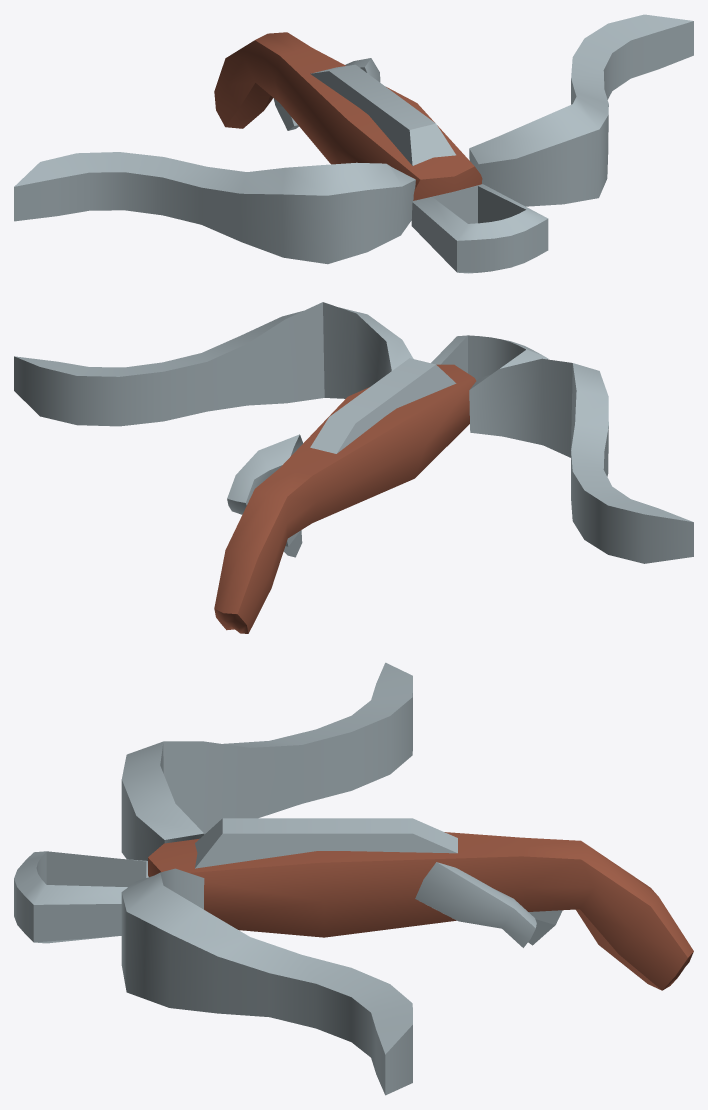
The model's file is crossbow_uncommon.glb.
3 views of the same model, one above another, from view 1: azimuth 30°, elevation 25°; view 2: azimuth 150°, elevation 25°; view 3: azimuth 270°, elevation 25° (orthographic). The views are drawn at different scales.
Visible parts, largest first — view 1: crossbow_uncommon; view 2: crossbow_uncommon; view 3: crossbow_uncommon.
Boxes of the visible parts, x1,y1,x2,y2 form: crossbow_uncommon: (14, 14, 693, 273); crossbow_uncommon: (14, 302, 693, 633); crossbow_uncommon: (14, 662, 693, 1095).
Size of the model in its own units: 0.1812 by 0.0367 by 0.1327.
